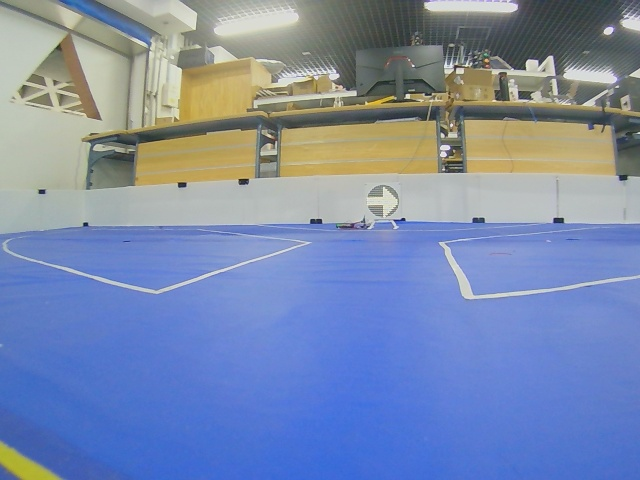right_yellow: (366, 184, 400, 221)
